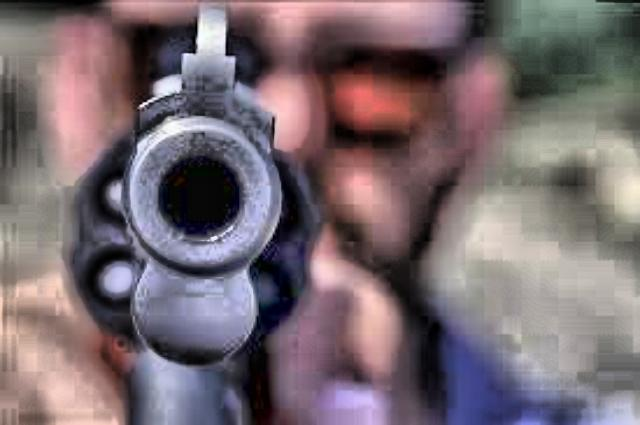pistol: (63, 5, 321, 419)
